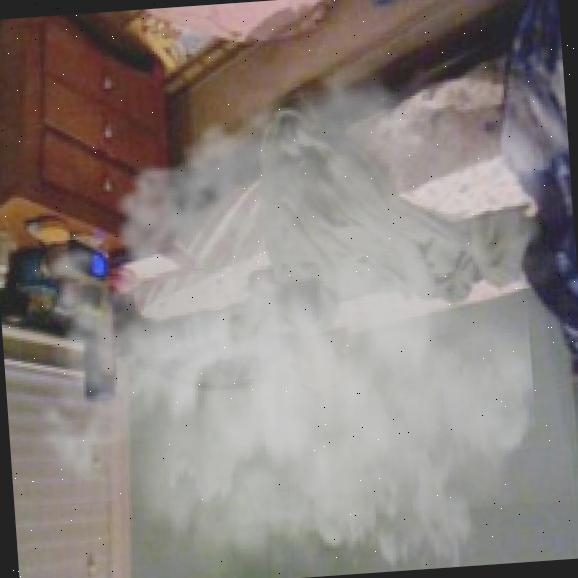smoke: (0, 35, 578, 578)
